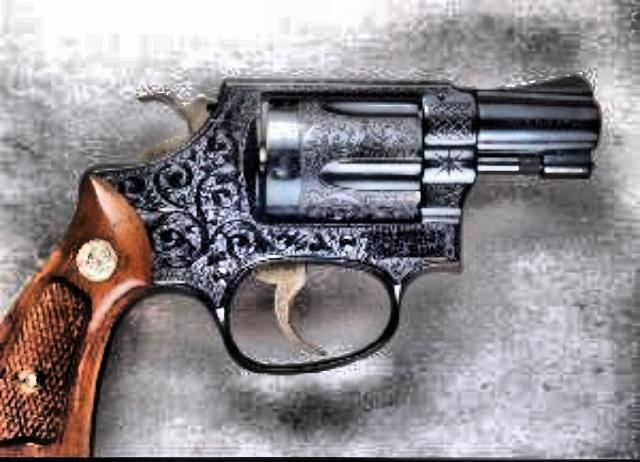pistol: (0, 68, 598, 456)
